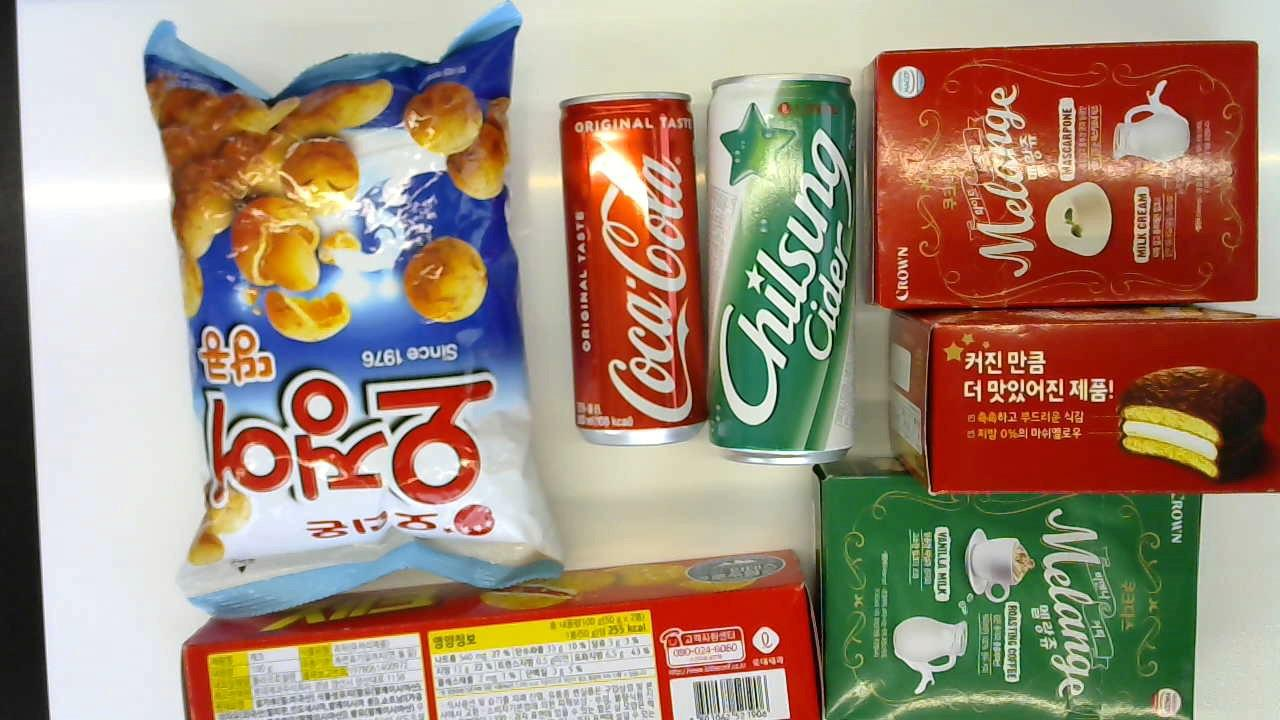chocopie: (886, 309, 1280, 495)
cidar: (698, 69, 862, 467)
coke: (558, 90, 707, 446)
couque_coffee: (811, 471, 1205, 720)
couque_white: (863, 36, 1260, 310)
squid_peanut: (141, 5, 563, 612)
zec: (181, 536, 801, 720)
